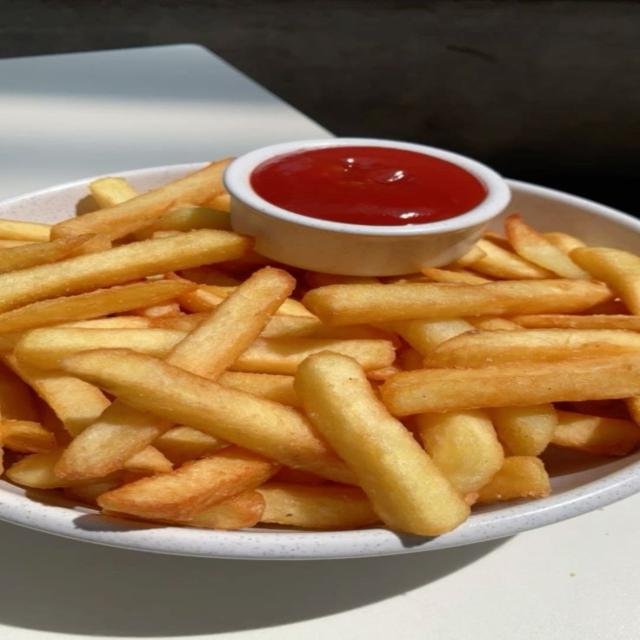potato fries: (0, 161, 639, 535), (62, 350, 353, 483), (296, 352, 468, 535), (0, 230, 250, 311), (252, 147, 485, 226), (381, 354, 639, 415), (51, 160, 228, 239), (303, 280, 611, 325), (167, 269, 293, 376), (98, 448, 278, 520), (0, 281, 195, 332), (426, 329, 639, 367), (416, 410, 504, 495), (258, 482, 379, 529), (505, 215, 588, 278), (571, 248, 639, 315), (552, 411, 639, 455), (0, 234, 93, 273), (490, 404, 558, 455), (478, 457, 550, 504), (472, 239, 553, 279), (154, 427, 228, 465), (511, 314, 639, 331), (0, 420, 56, 453), (89, 177, 139, 208), (0, 219, 51, 242)
